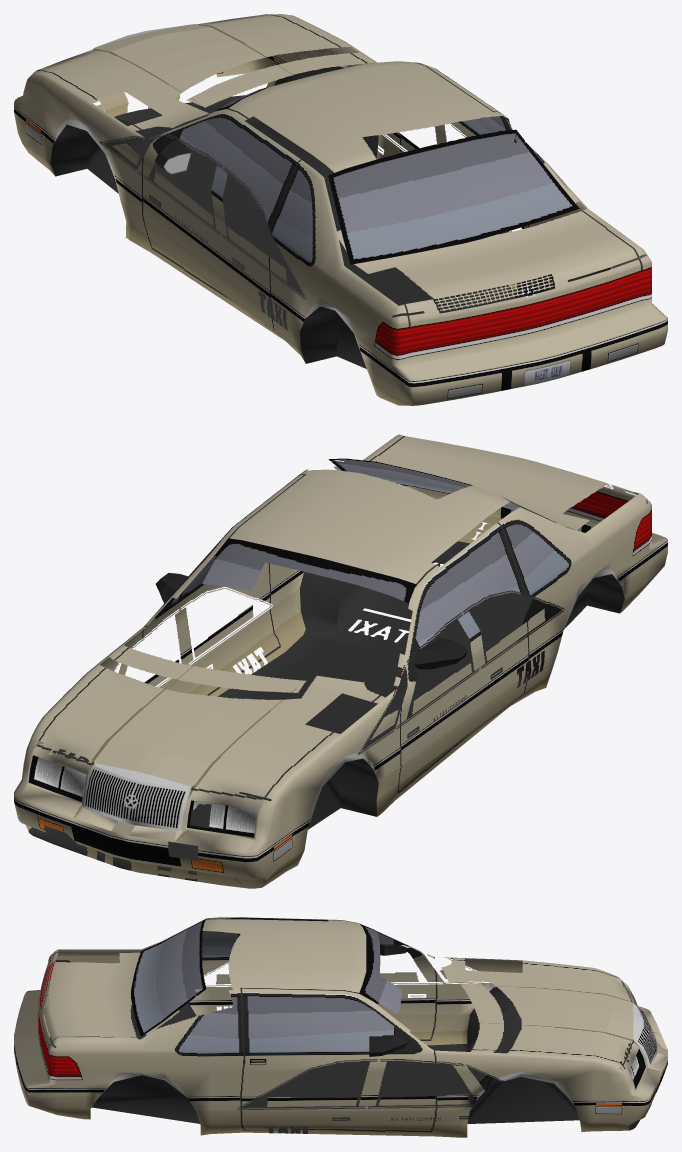
The model's file is 88lebaron.fbx.
3 renders of one model, top to bottom at view 1: azimuth 30°, elevation 25°; view 2: azimuth 150°, elevation 25°; view 3: azimuth 270°, elevation 25°, orthographic. The views are drawn at different scales.
Parts seen in each view (by area): view 1: 88lebaron; view 2: 88lebaron; view 3: 88lebaron.
Part boxes in pixels (<box>): 88lebaron: <box>14,14,667,405</box>; 88lebaron: <box>14,434,667,888</box>; 88lebaron: <box>14,917,667,1137</box>.
Size of the model in its own units: 1.95 by 1.15 by 4.76.
